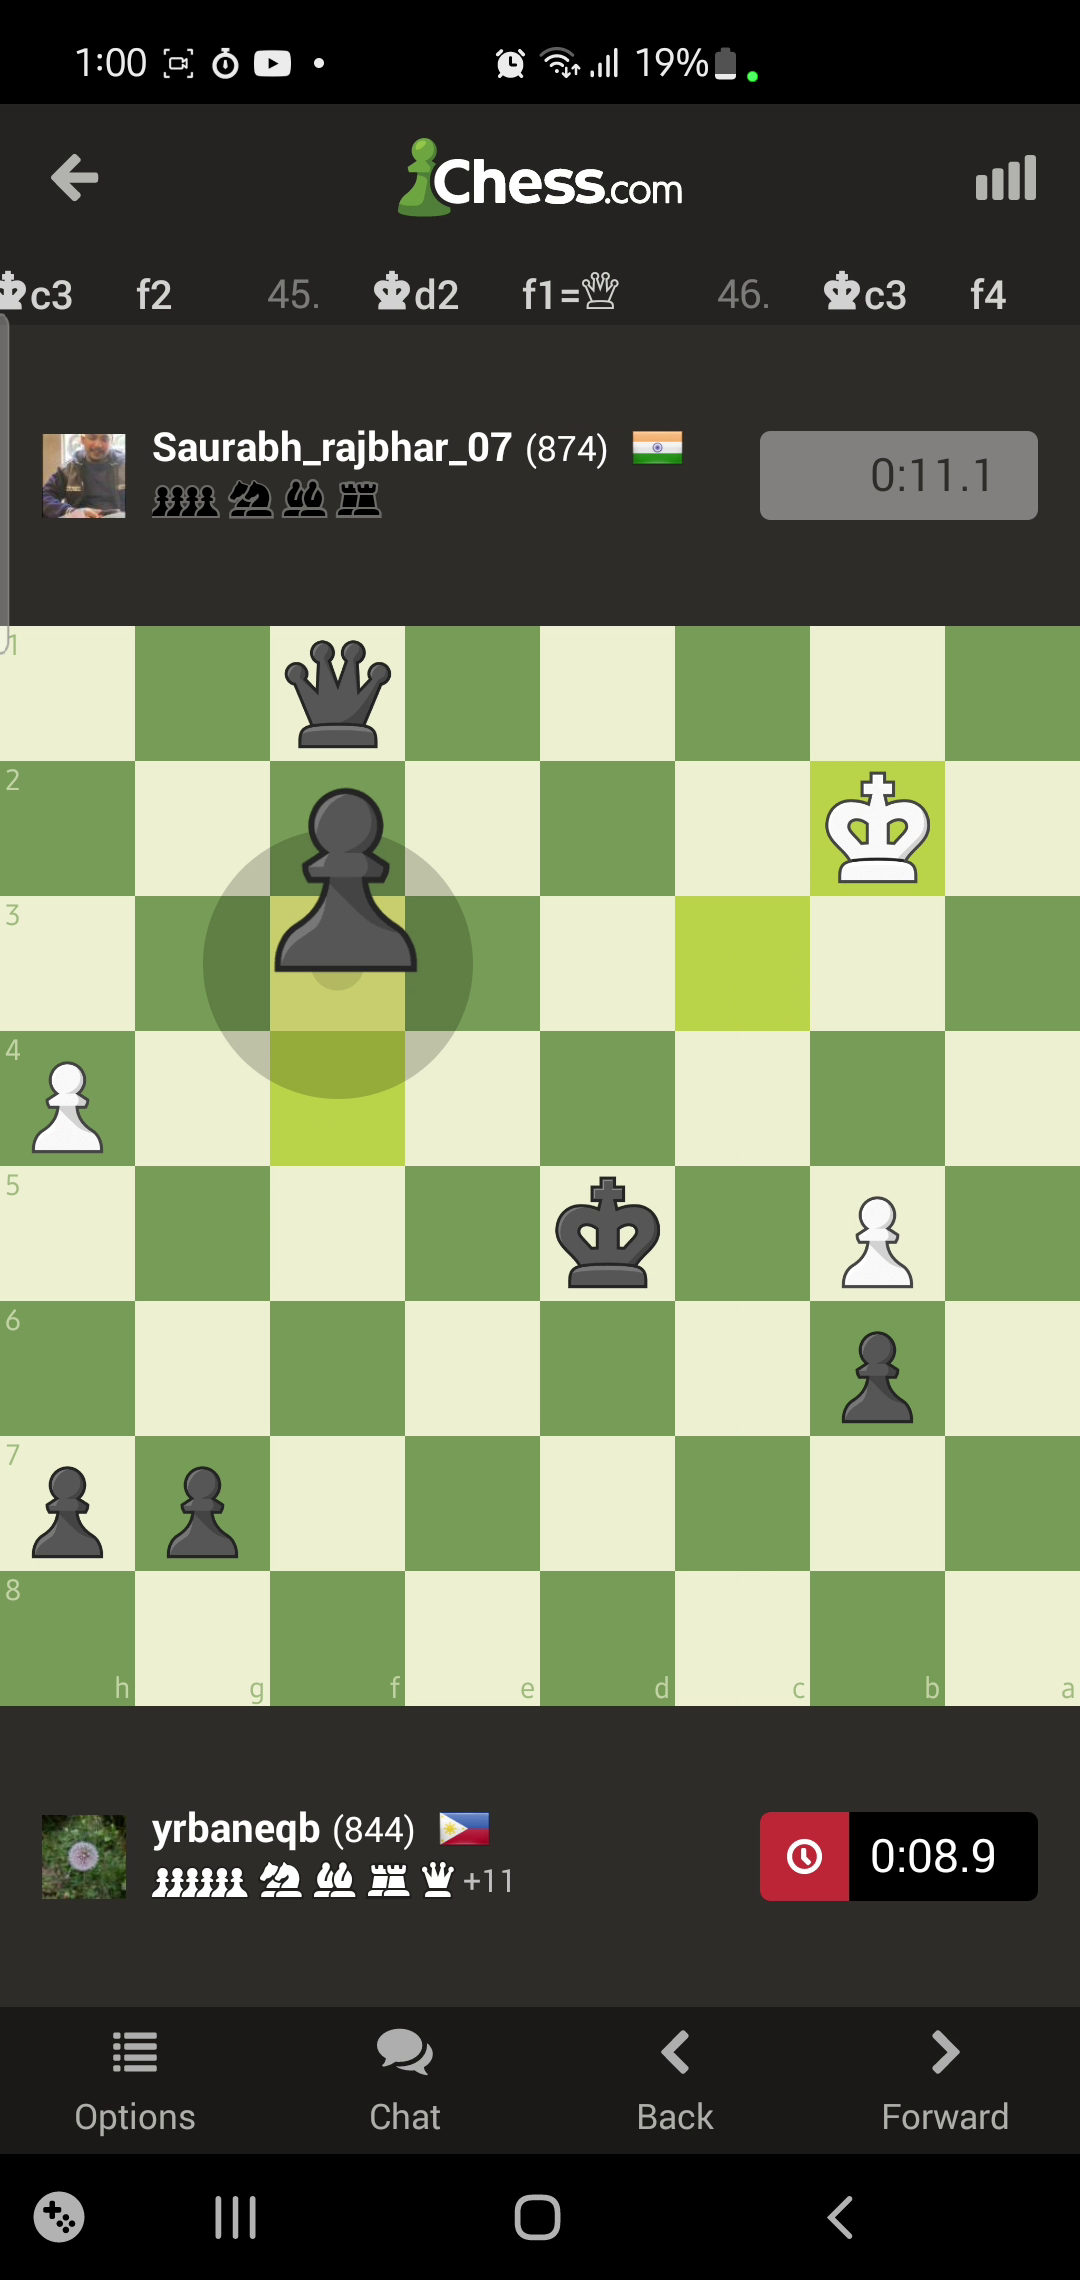king: (557, 1176, 661, 1293), (824, 774, 927, 883)
